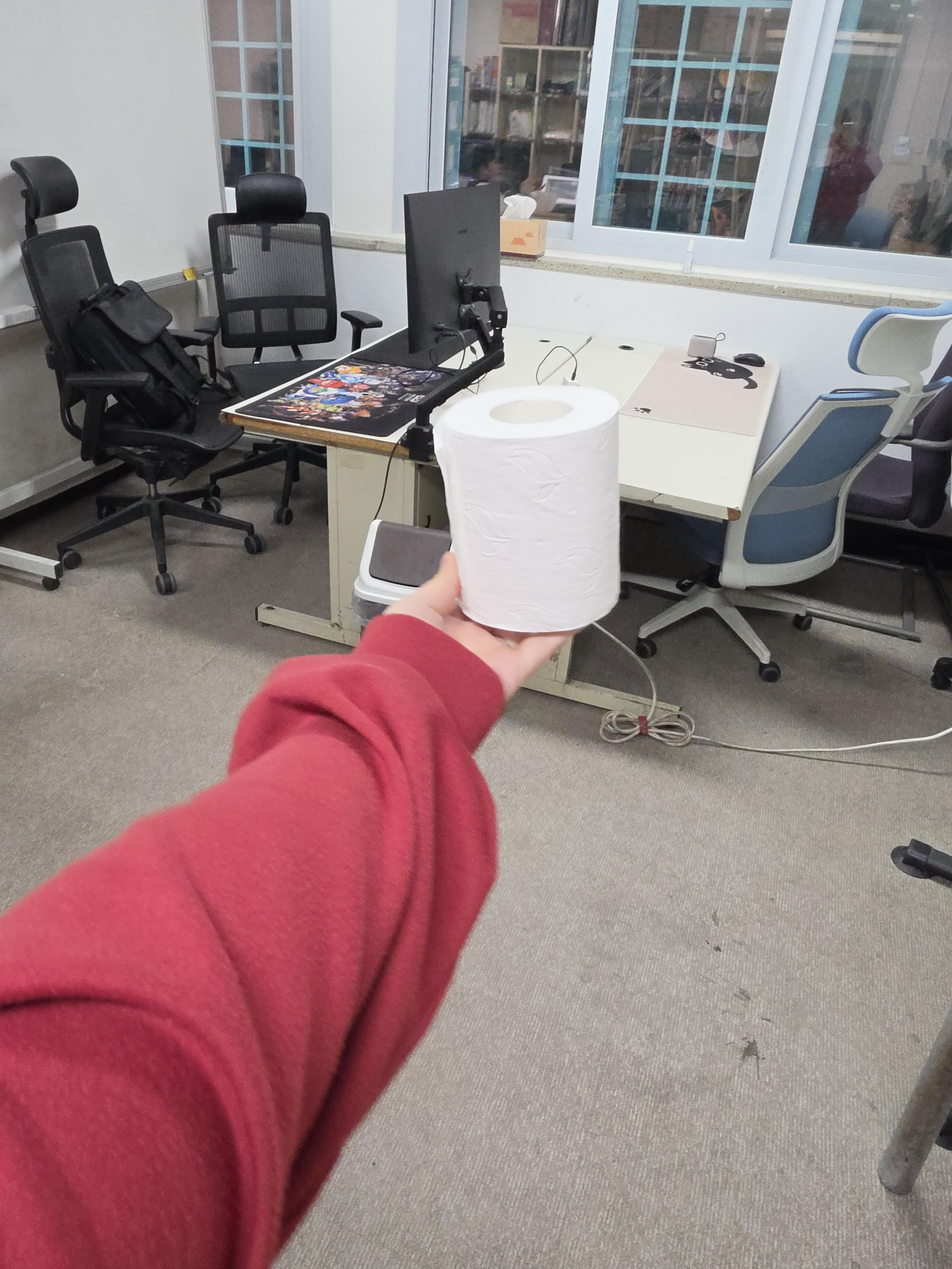tissue: (433, 385, 620, 634), (499, 195, 547, 259)
